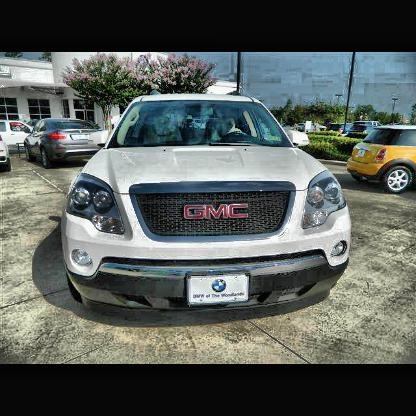GMC Acadia SUV 2012: (61, 93, 354, 318)
